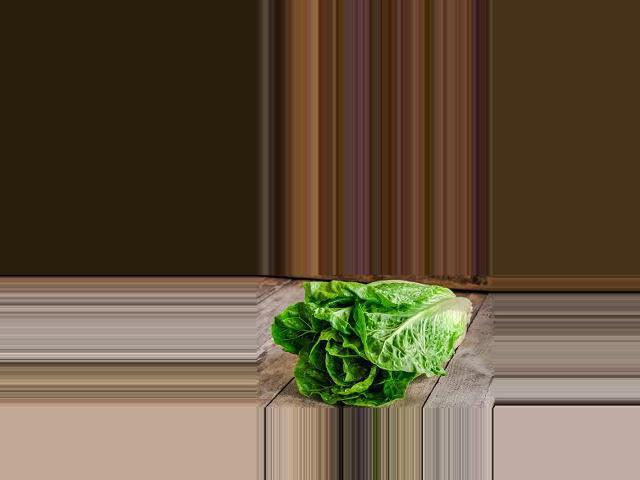lettuce: (289, 281, 450, 397)
